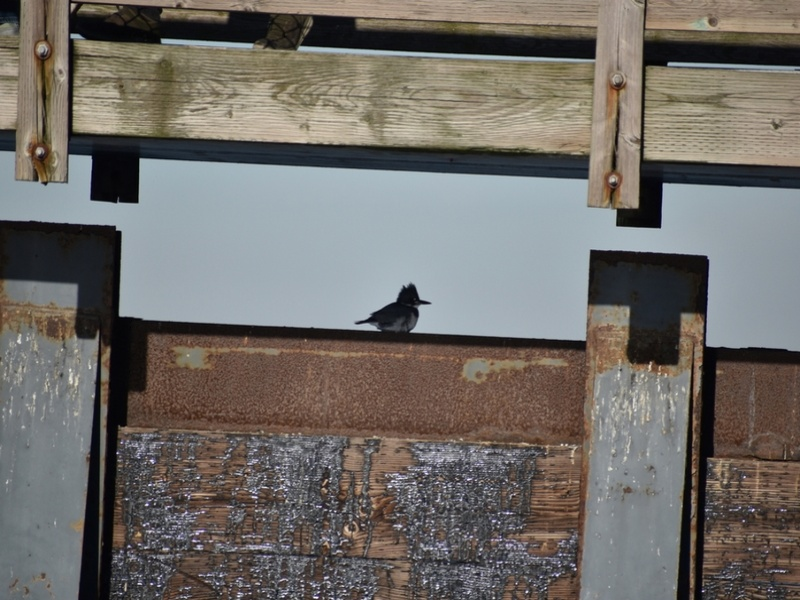kingfisher: (354, 281, 433, 332)
